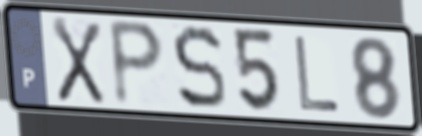5: (230, 25, 284, 117)
8: (349, 34, 406, 122)
L: (292, 33, 343, 115)
P: (106, 16, 167, 110)
S: (169, 22, 229, 113)
X: (49, 14, 107, 108)
